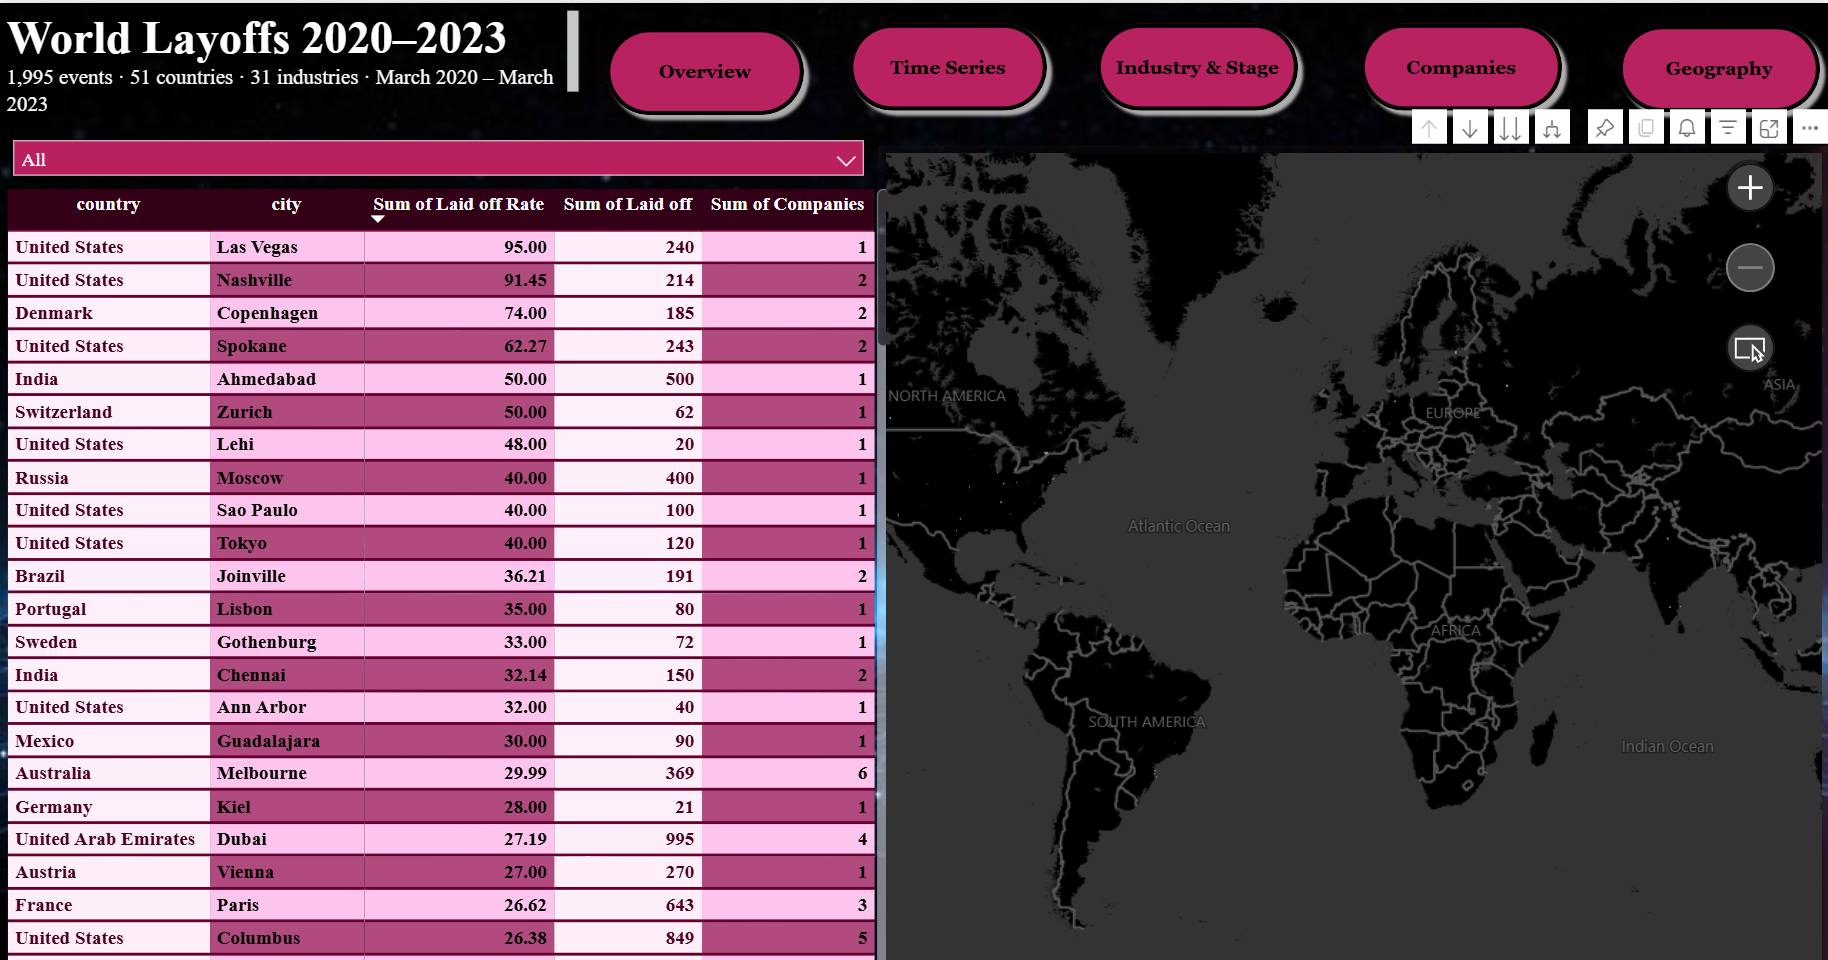

This screenshot's page, from the dashboard's own definition file:
{"tool":"powerbi","page":{"name":"Geography","canvas":[1280,720],"ordinal":4},"visuals":[{"type":"textbox","box":[0,0,410,82.5],"z":0},{"type":"actionButton","title":"Overview","box":[587.5,7.5,152.5,75],"z":1000},{"type":"actionButton","title":"Overview","box":[417.5,10,152.5,75],"z":2000},{"type":"actionButton","title":"Overview","box":[760,7.5,155,75],"z":3000},{"type":"actionButton","title":"Overview","box":[945,7.5,155,75],"z":4000},{"type":"actionButton","title":"Overview","box":[1125,8.3,155,75],"z":5000},{"type":"slicer","fields":{"Values":["Geography.country"]},"box":[0,86.2,614.8,39],"z":6000},{"type":"tableEx","fields":{"Values":["Geography.country","Geography.city","Sum(Geography.layoff_rate_raw)","Sum(Geography.total_laid_off)","Sum(Geography.num_companies)"]},"box":[0,125.2,627.8,595.3],"z":7000},{"type":"filledMap","fields":{"Category":["Geography.city","Geography.country","Geography.Laid off Rate"]},"box":[614.8,99.2,665.3,621.3],"z":8000}]}

Visuals, with their boxes on the page's 1280x720 design canvas (x1, y1, x2, y2). These are canvas units, not pixel positions in the 1828x960 screenshot, which may show the page scaled, cropped or inside an application window:
textbox: bbox(0, 0, 410, 82)
"Overview" actionButton: bbox(588, 8, 740, 82)
"Overview" actionButton: bbox(418, 10, 570, 85)
"Overview" actionButton: bbox(760, 8, 915, 82)
"Overview" actionButton: bbox(945, 8, 1100, 82)
"Overview" actionButton: bbox(1125, 8, 1280, 83)
slicer - Geography.country: bbox(0, 86, 615, 125)
tableEx - Geography.country x Geography.city: bbox(0, 125, 628, 720)
filledMap - Geography.city x Geography.country: bbox(615, 99, 1280, 720)
